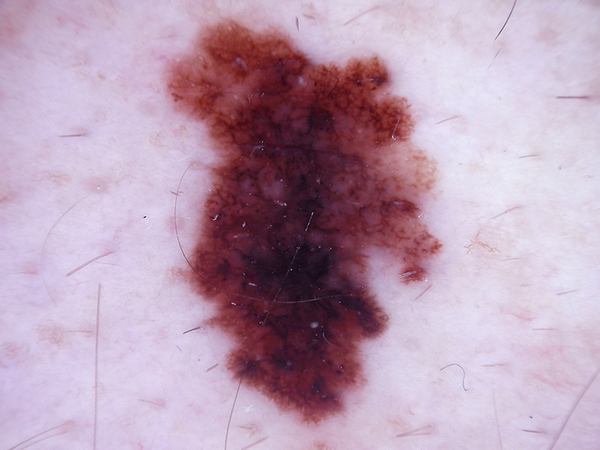Detected Lesion: (161, 16, 452, 431)
